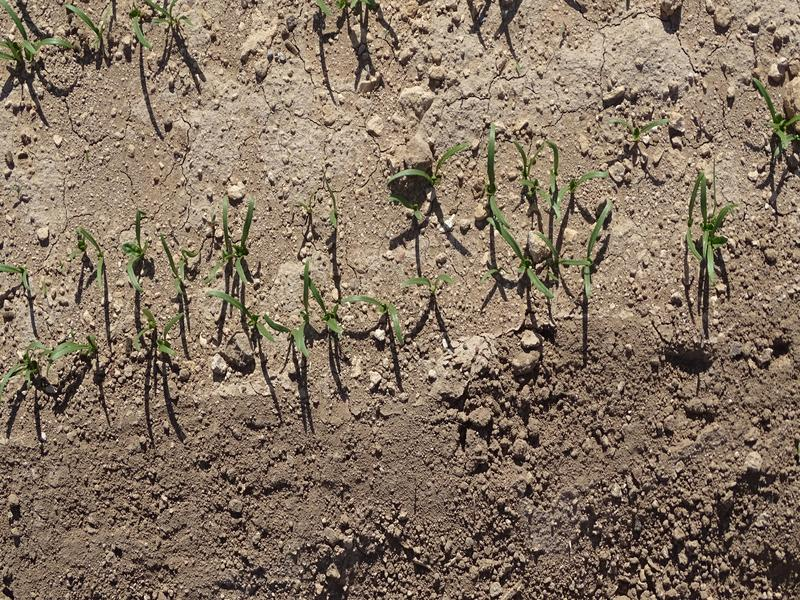Espinaca: (485, 131, 613, 304), (3, 3, 192, 52), (680, 167, 731, 279), (198, 220, 253, 320), (9, 330, 99, 389), (390, 142, 469, 189), (750, 78, 797, 154), (343, 292, 410, 344), (66, 227, 109, 291), (137, 308, 185, 364), (302, 273, 342, 335), (256, 317, 311, 361), (118, 239, 149, 288), (401, 269, 457, 292), (1, 261, 35, 291)
